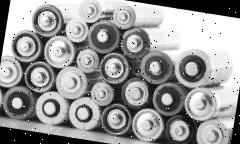electronic: (174, 47, 218, 91), (181, 88, 224, 126), (147, 80, 188, 117), (24, 0, 66, 36), (136, 49, 176, 86), (66, 96, 104, 134), (34, 87, 72, 125), (94, 52, 134, 88), (6, 28, 46, 64), (3, 83, 39, 123), (118, 24, 154, 62), (118, 74, 154, 112), (20, 57, 56, 93), (54, 66, 90, 99), (131, 106, 164, 142), (161, 112, 197, 144), (90, 18, 122, 54), (191, 117, 228, 144), (44, 34, 74, 66), (71, 0, 106, 25), (86, 80, 117, 108), (0, 56, 25, 90), (63, 16, 91, 46), (75, 44, 100, 76)
